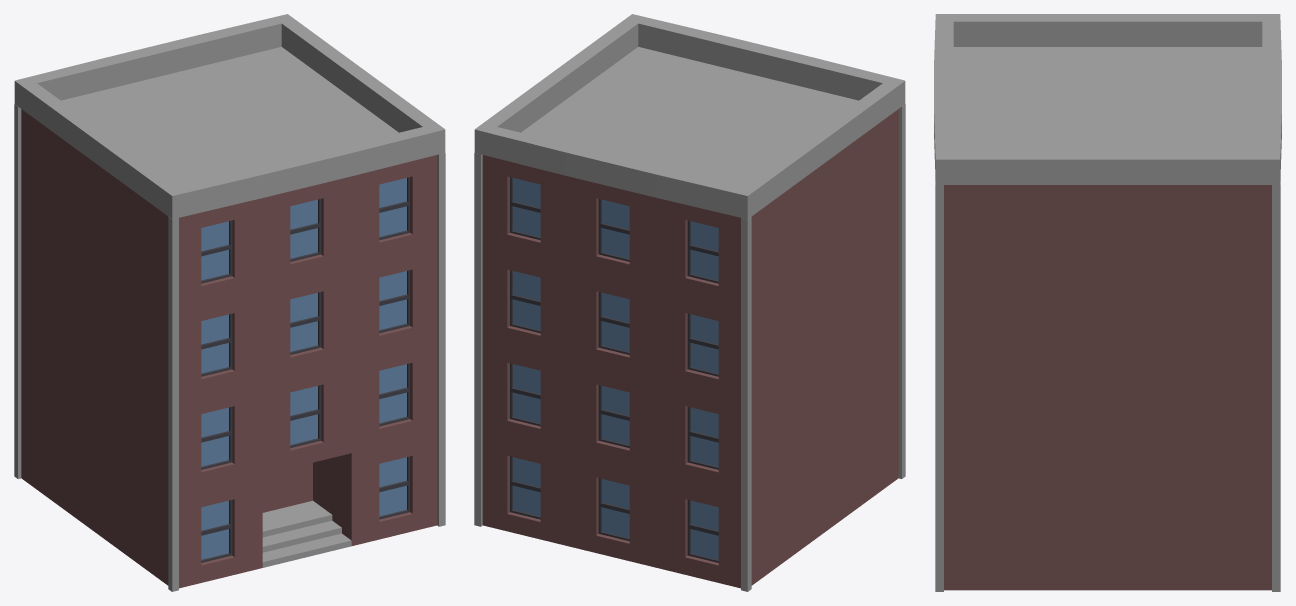
File: cb_Building_2_A.glb
3 renders of one model, left to right at view 1: azimuth 30°, elevation 25°; view 2: azimuth 150°, elevation 25°; view 3: azimuth 270°, elevation 25°, orthographic. The views are drawn at different scales.
Visible parts, largest first — view 1: Building 2 A; view 2: Building 2 A; view 3: Building 2 A.
Part boxes in pixels (x1,y1,x2,y2): Building 2 A: (14,14,445,591); Building 2 A: (474,14,905,591); Building 2 A: (934,14,1281,591).
Size of the model in its own units: 12.3 by 17 by 12.4.
Materials: 1 (1 with a texture image).
